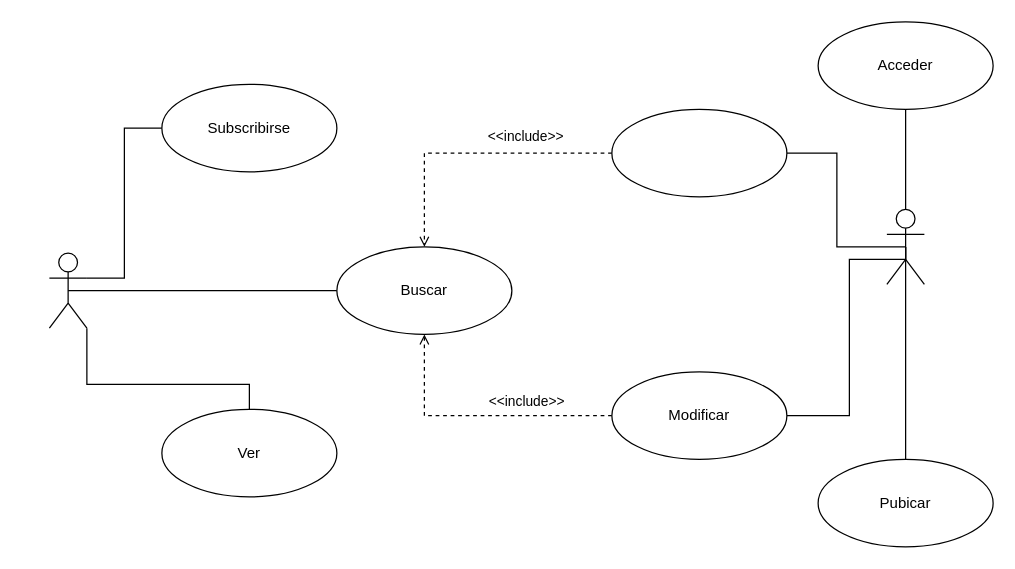
Image size: 1015x569. Some labels were removed from this diagram. Each missing label, with the box of its shape:
Administrativo: (48, 252, 87, 328)
Borrar: (611, 108, 787, 197)
Responsable: (886, 208, 924, 284)
